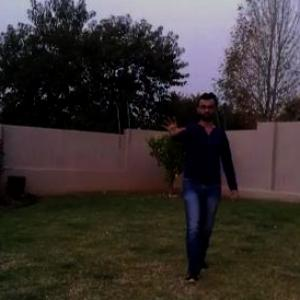follow_hand: (157, 110, 187, 140)
